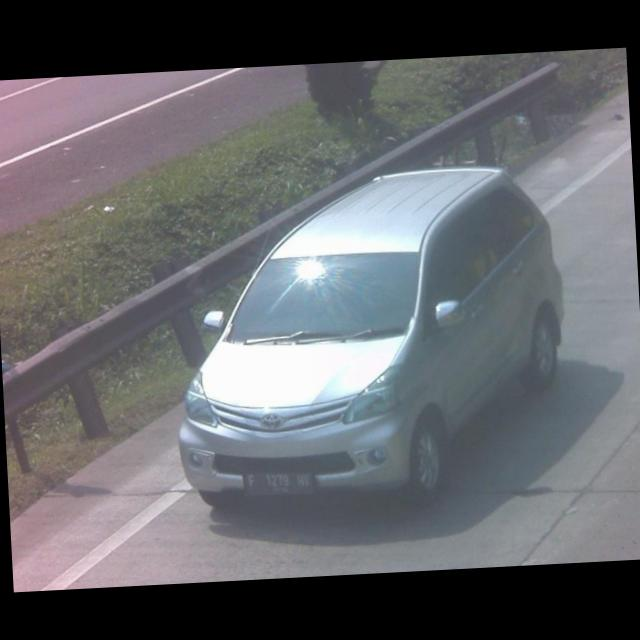plate: (245, 469, 312, 496)
